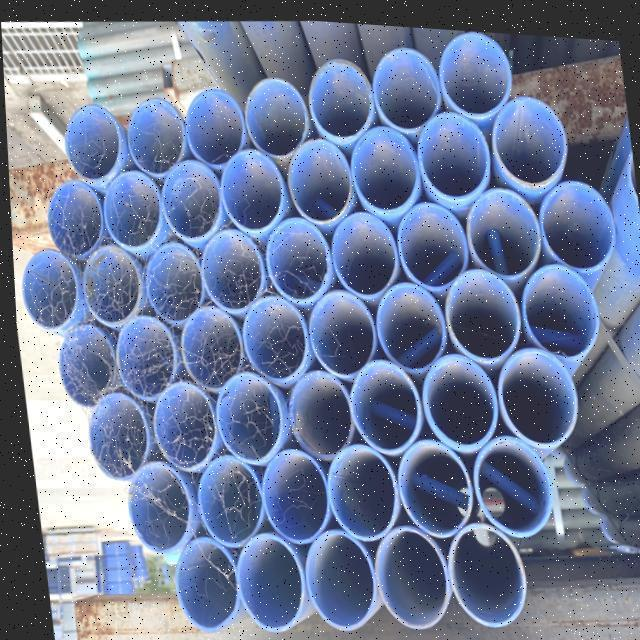pipe: (439, 516, 522, 620), (487, 339, 571, 438), (364, 522, 445, 624), (293, 523, 373, 623), (467, 426, 545, 528), (515, 259, 595, 354), (228, 523, 302, 625), (378, 190, 464, 277), (159, 531, 237, 626), (318, 435, 391, 535), (439, 259, 517, 352), (529, 167, 606, 260), (413, 349, 490, 441), (391, 433, 464, 529), (250, 442, 322, 539), (458, 175, 533, 265), (342, 353, 413, 446), (175, 300, 246, 393), (367, 275, 442, 363), (411, 105, 484, 195), (208, 364, 280, 455), (489, 90, 563, 177), (119, 461, 186, 555), (437, 25, 510, 111), (230, 291, 303, 375), (282, 363, 350, 453), (258, 213, 328, 300), (146, 377, 212, 468), (188, 452, 256, 540), (304, 283, 372, 371), (327, 197, 393, 287), (345, 121, 414, 205), (368, 40, 439, 121), (82, 387, 144, 477), (218, 142, 282, 229), (283, 129, 347, 215), (306, 54, 372, 135), (198, 222, 263, 304), (74, 239, 137, 323), (111, 312, 172, 397), (158, 152, 219, 237), (240, 73, 305, 152), (51, 323, 111, 407), (15, 242, 72, 329), (142, 239, 202, 321), (98, 165, 158, 247), (182, 84, 241, 167), (124, 93, 182, 174), (43, 176, 99, 259), (64, 100, 121, 179)
